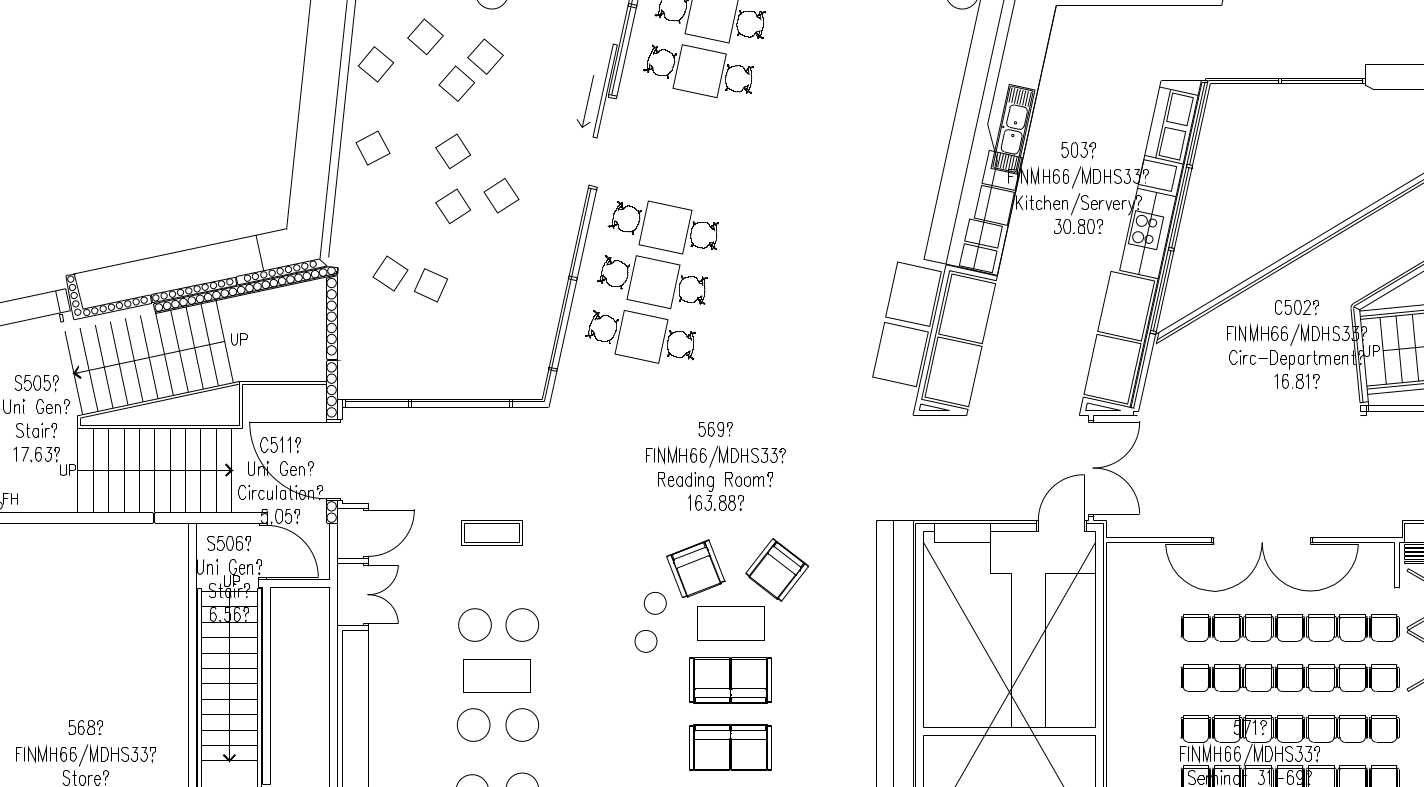door: (1090, 419, 1151, 519), (363, 500, 421, 559), (363, 563, 410, 629), (265, 524, 322, 578), (1032, 462, 1089, 516)
